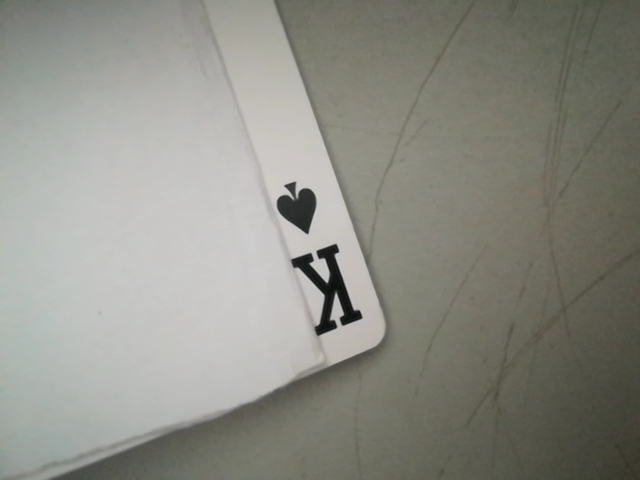ht k: (264, 169, 377, 357)
